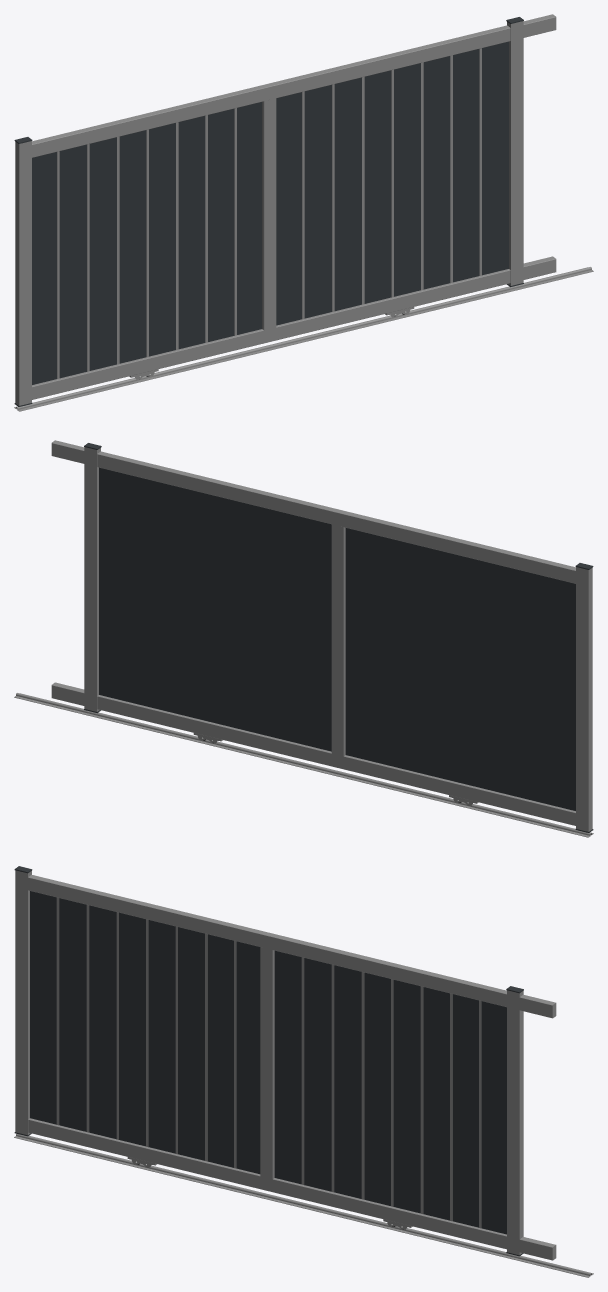
3 renders of one model, top to bottom at view 1: azimuth 30°, elevation 25°; view 2: azimuth 150°, elevation 25°; view 3: azimuth 330°, elevation 25°, orthographic.
Visible parts, largest first — view 1: Chapa Alucobond038, Shape107412618, Shape107412619, Pilar, Pilar001, Rail, Shape107412816, Line051, Line052, Line062, Line049, Line050 (+9 smaller); view 2: Chapa Alucobond038, Shape107412618, Shape107412619, Pilar, Pilar001, Rail, Shape107412816; view 3: Chapa Alucobond038, Shape107412618, Shape107412619, Pilar001, Pilar, Rail, Shape107412816, Line049, Line050, Line057, Line058, Line059 (+9 smaller).
Boxes of the visible parts, x1,y1,x2,y2 form: Chapa Alucobond038: [32, 41, 508, 384]; Shape107412618: [32, 14, 556, 157]; Shape107412619: [32, 256, 556, 399]; Pilar: [15, 141, 31, 405]; Pilar001: [507, 21, 523, 285]; Rail: [14, 267, 593, 411]; Shape107412816: [262, 98, 276, 330]; Line051: [117, 136, 119, 364]; Line052: [146, 129, 148, 357]; Line062: [450, 55, 452, 283]; Line049: [57, 151, 59, 378]; Line050: [87, 144, 89, 371]; Chapa Alucobond038: [99, 467, 575, 810]; Shape107412618: [51, 440, 575, 583]; Shape107412619: [51, 682, 575, 825]; Pilar: [576, 567, 592, 831]; Pilar001: [84, 447, 100, 711]; Rail: [14, 693, 593, 837]; Shape107412816: [331, 524, 345, 756]; Chapa Alucobond038: [30, 891, 506, 1234]; Shape107412618: [28, 875, 556, 1018]; Shape107412619: [28, 1118, 556, 1260]; Pilar001: [507, 990, 523, 1255]; Pilar: [15, 870, 31, 1135]; Rail: [14, 1133, 593, 1277]; Shape107412816: [260, 947, 274, 1179]; Line049: [56, 897, 59, 1125]; Line050: [86, 905, 89, 1132]; Line057: [301, 957, 304, 1184]; Line058: [331, 964, 334, 1192]; Line059: [361, 972, 364, 1199].
Bounding box in the file's own units: 3600 × 1606 × 60.02.
Materials: 9 (4 with a texture image).
